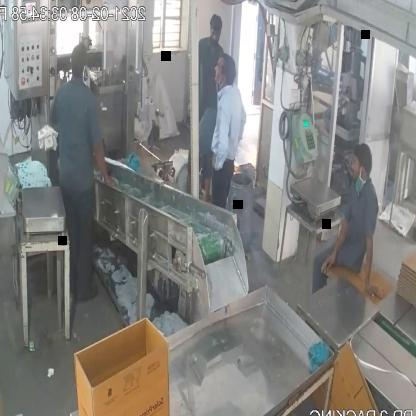no_glove: (318, 206, 350, 278), (88, 135, 117, 196), (361, 220, 381, 305), (214, 112, 230, 178)
